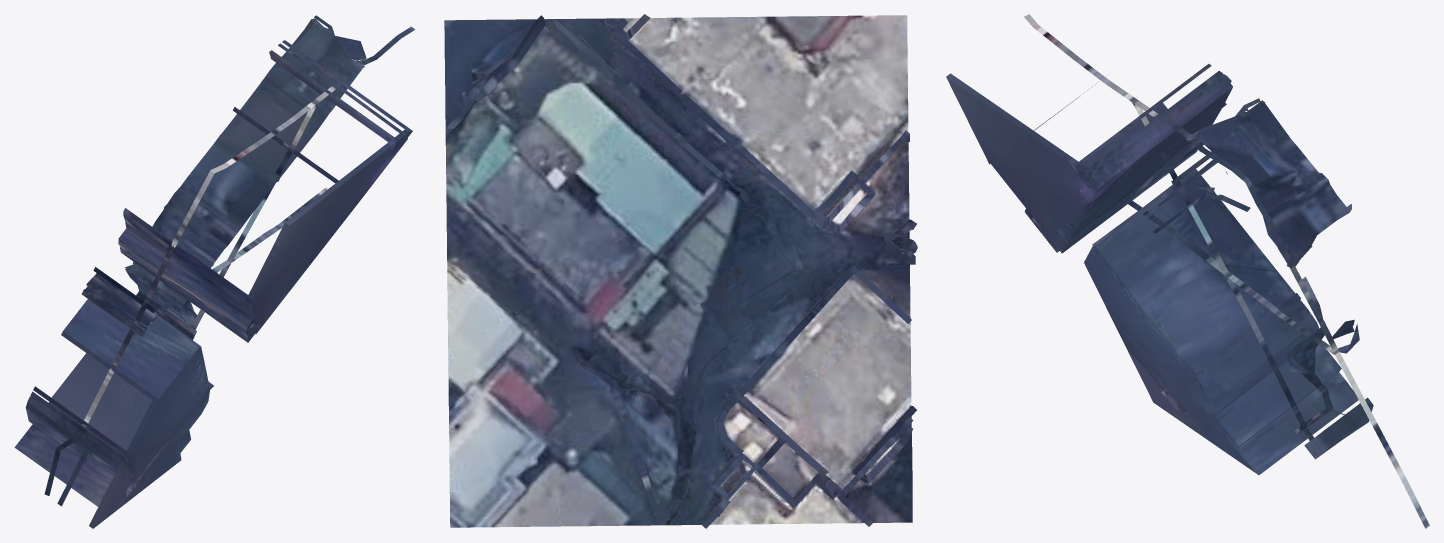
3 renders of one model, left to right at view 1: azimuth 30°, elevation 25°; view 2: azimuth 150°, elevation 25°; view 3: azimuth 270°, elevation 25°, orthographic. The views are drawn at different scales.
Bounding box in the file's own units: 39.56 × 39.12 × 38.18.
1 material, 1 textured.
